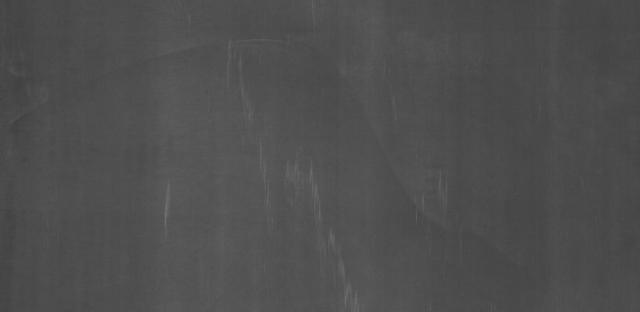silk_spot: (252, 140, 382, 305), (216, 52, 262, 126), (151, 174, 180, 234)
